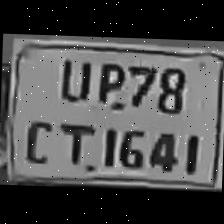1: (176, 126, 204, 174), (95, 118, 119, 166)
4: (145, 124, 179, 172)
6: (114, 120, 146, 169)
7: (124, 58, 154, 110)
8: (151, 59, 187, 117)
C: (18, 113, 56, 164)
P: (91, 56, 127, 106)
T: (52, 114, 97, 165)
U: (50, 51, 92, 102)
